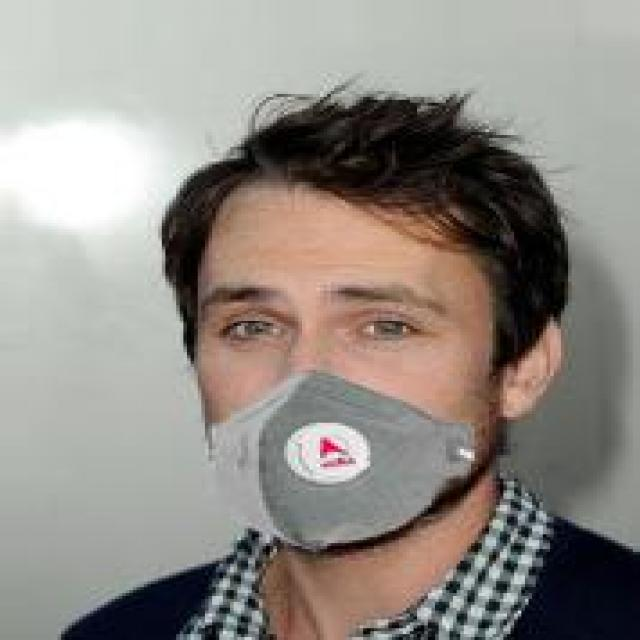mask: (133, 76, 550, 549)
